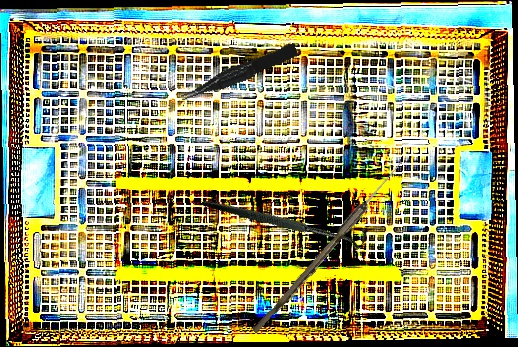Hook Surgical: (200, 134, 373, 304)
Surgical Spoon: (251, 157, 406, 338)
Tissue Forceps: (176, 42, 301, 104)
